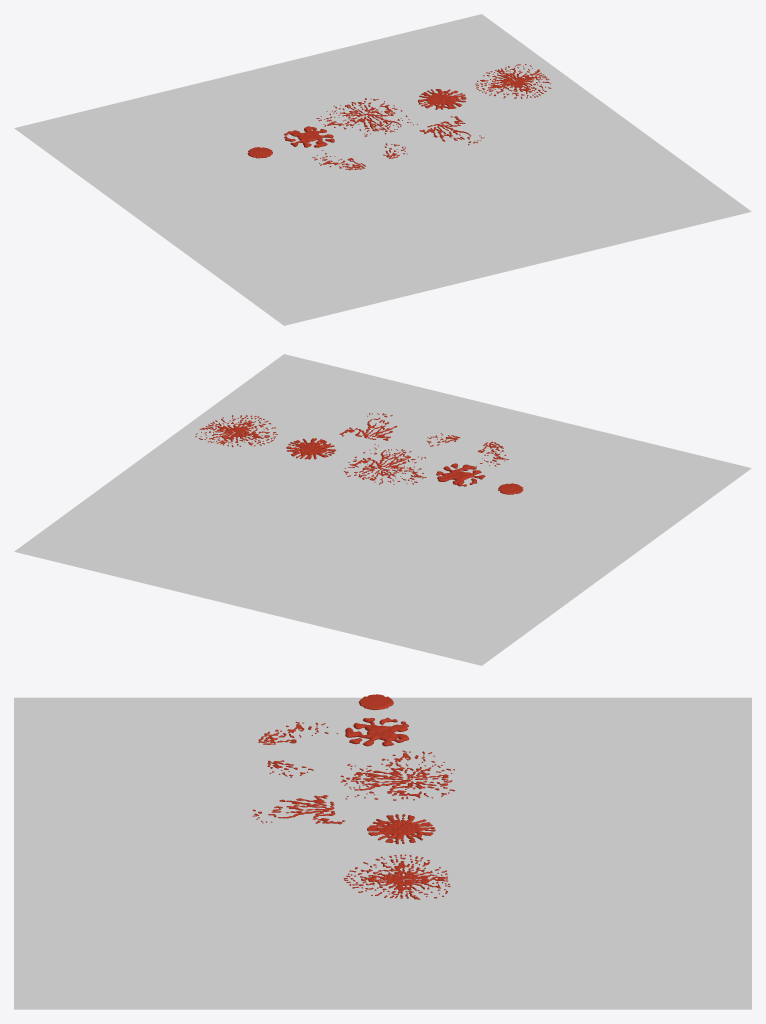
The model's file is blood splatter 1.fbx.
3 views of the same model, one above another, from view 1: azimuth 30°, elevation 25°; view 2: azimuth 150°, elevation 25°; view 3: azimuth 270°, elevation 25° (orthographic). The views are drawn at different scales.
Parts seen in each view (by area): view 1: Plane, blood splatter 2, blood splatter 5, blood splatter 3, blood splatter 1; view 2: Plane, blood splatter 2, blood splatter 5, blood splatter 3, blood splatter 1; view 3: Plane, blood splatter 2, blood splatter 5, blood splatter 3, blood splatter 1, blood splatter 8.
Part boxes in pixels (<box>): Plane: <box>14,14,751,325</box>; blood splatter 2: <box>475,64,551,98</box>; blood splatter 5: <box>316,98,417,136</box>; blood splatter 3: <box>418,89,466,109</box>; blood splatter 1: <box>284,126,334,147</box>; Plane: <box>14,354,751,665</box>; blood splatter 2: <box>195,415,277,446</box>; blood splatter 5: <box>344,444,426,484</box>; blood splatter 3: <box>286,438,336,459</box>; blood splatter 1: <box>436,463,485,486</box>; Plane: <box>14,697,751,1009</box>; blood splatter 2: <box>343,854,450,899</box>; blood splatter 5: <box>340,750,454,800</box>; blood splatter 3: <box>367,814,435,844</box>; blood splatter 1: <box>345,717,408,746</box>; blood splatter 8: <box>252,795,344,824</box>.
Size of the model in its own units: 4695 by 511 by 4695.
